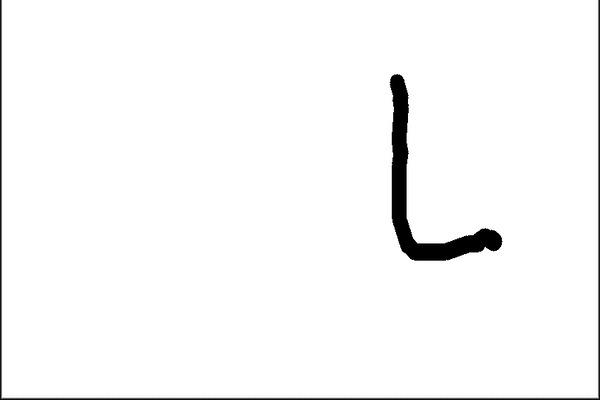L: (379, 67, 509, 268)
